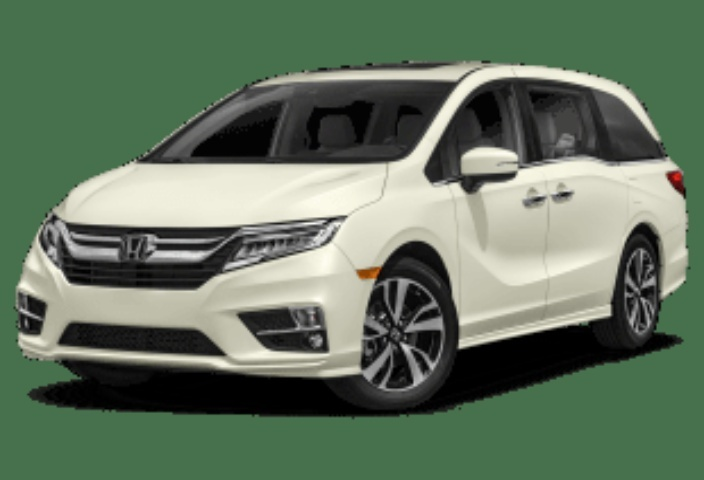camper: (7, 45, 704, 408)
